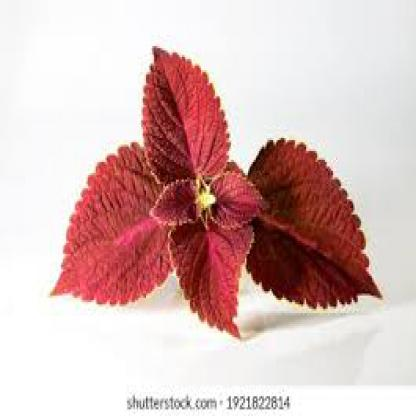Bunga Coleus: (44, 40, 399, 325)
